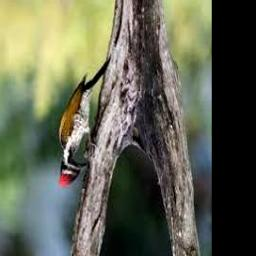Woodpecker: (59, 59, 111, 186)
